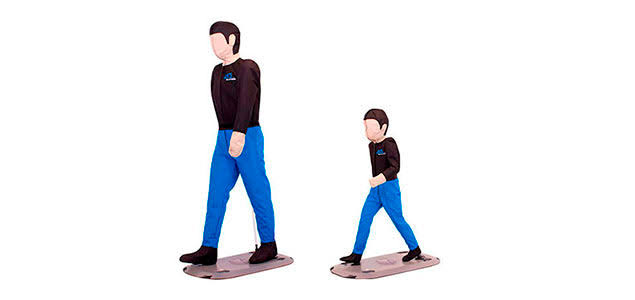stop: (179, 23, 293, 280), (347, 108, 427, 277)
